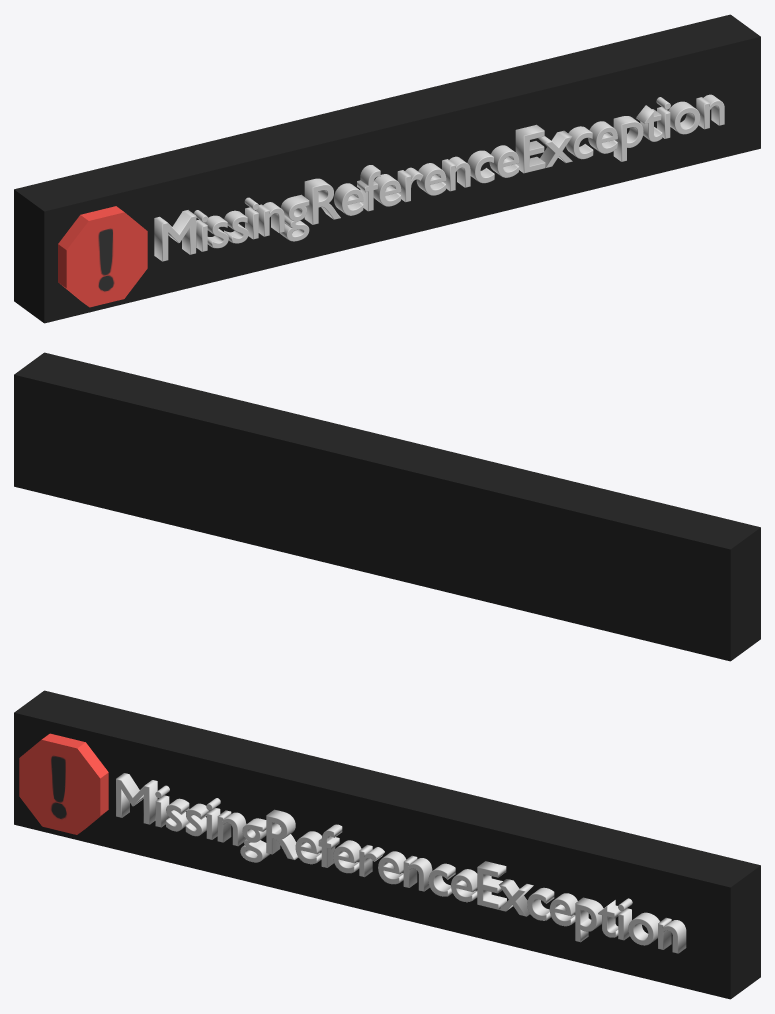
Rendered from MissingReferenceException.001.fbx.
3 views of the same model, one above another, from view 1: azimuth 30°, elevation 25°; view 2: azimuth 150°, elevation 25°; view 3: azimuth 330°, elevation 25° (orthographic).
Parts seen in each view (by area): view 1: nooo2.003, MissingReferenceException.001; view 2: nooo2.003; view 3: nooo2.003, MissingReferenceException.001.
Boxes of the visible parts, x1=… form: nooo2.003: x1=14, y1=14, x2=760, y2=323; MissingReferenceException.001: x1=154, y1=94, x2=724, y2=261; nooo2.003: x1=14, y1=352, x2=760, y2=661; nooo2.003: x1=14, y1=690, x2=760, y2=999; MissingReferenceException.001: x1=116, y1=773, x2=686, y2=953.
Size of the model in its own units: 2646 by 395 by 249.
